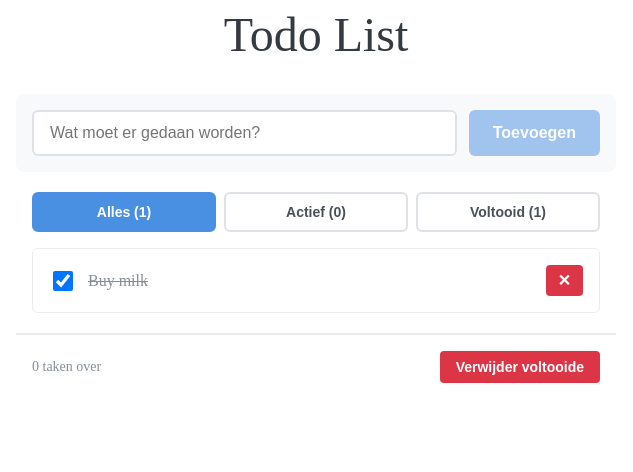
TodoList › shows the no-results message when a filter has no matching todos
Click the button with test id "filter-active".
click(316, 212)  # box left=224, top=192, right=408, bottom=232
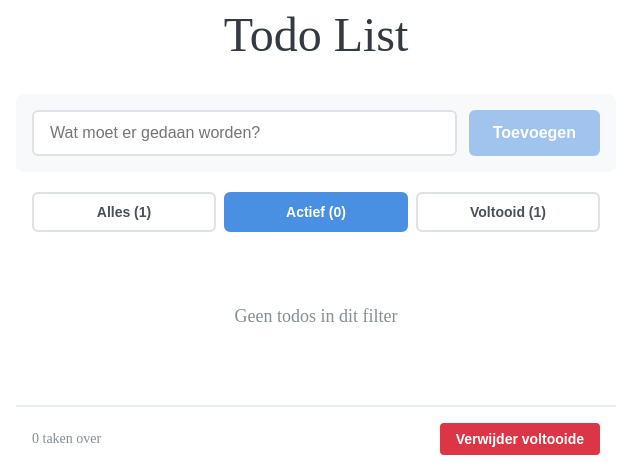
Expected: the element with test id "no-results" is shown, left=234, top=306, right=398, bottom=326
